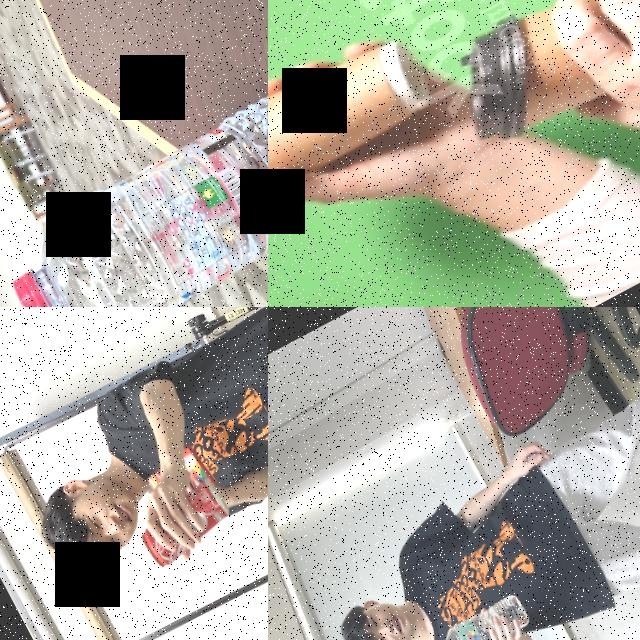bottle: (0, 65, 268, 307), (430, 589, 534, 640)
can: (130, 473, 240, 570)
cup: (268, 14, 447, 237), (434, 0, 640, 157)
